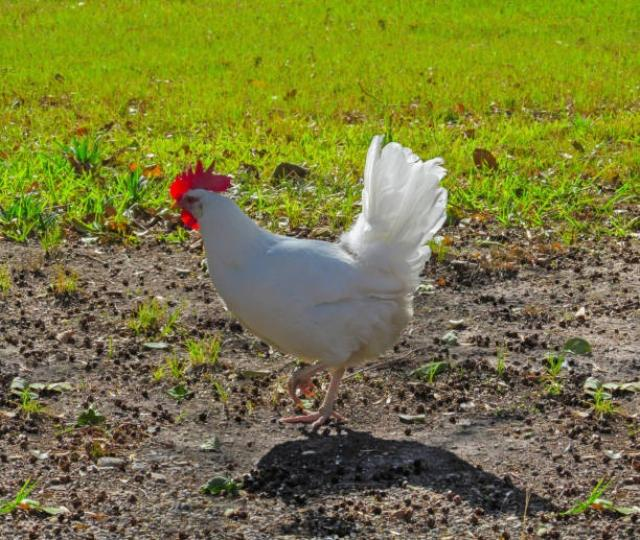Chicken: (168, 137, 447, 428)
